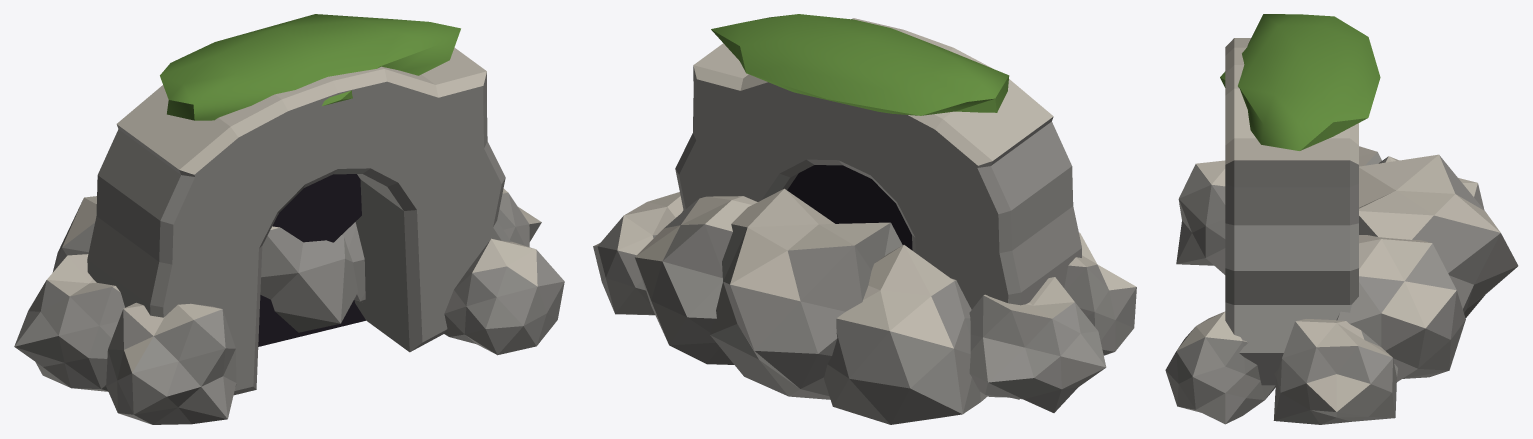
File: cave-entrance.glb
3 renders of one model, left to right at view 1: azimuth 30°, elevation 25°; view 2: azimuth 150°, elevation 25°; view 3: azimuth 270°, elevation 25°, orthographic. The views are drawn at different scales.
Parts seen in each view (by area): view 1: Cave rock face, Cave boulders, Cave moss, Cave darkness; view 2: Cave boulders, Cave rock face, Cave moss, Cave darkness; view 3: Cave boulders, Cave rock face, Cave moss.
Boxes of the visible parts, left/top/right/bottom form: Cave rock face: left=87, top=47, right=510, bottom=395; Cave boulders: left=14, top=188, right=564, bottom=424; Cave moss: left=160, top=14, right=460, bottom=120; Cave darkness: left=258, top=174, right=365, bottom=346; Cave boulders: left=593, top=188, right=1136, bottom=424; Cave rock face: left=675, top=18, right=1081, bottom=399; Cave moss: left=711, top=14, right=1009, bottom=115; Cave darkness: left=787, top=165, right=912, bottom=250; Cave boulders: left=1165, top=146, right=1518, bottom=424; Cave rock face: left=1225, top=38, right=1358, bottom=385; Cave moss: left=1220, top=14, right=1380, bottom=150.
Bounding box in the file's own units: 3.79 × 2.1 × 2.38.
